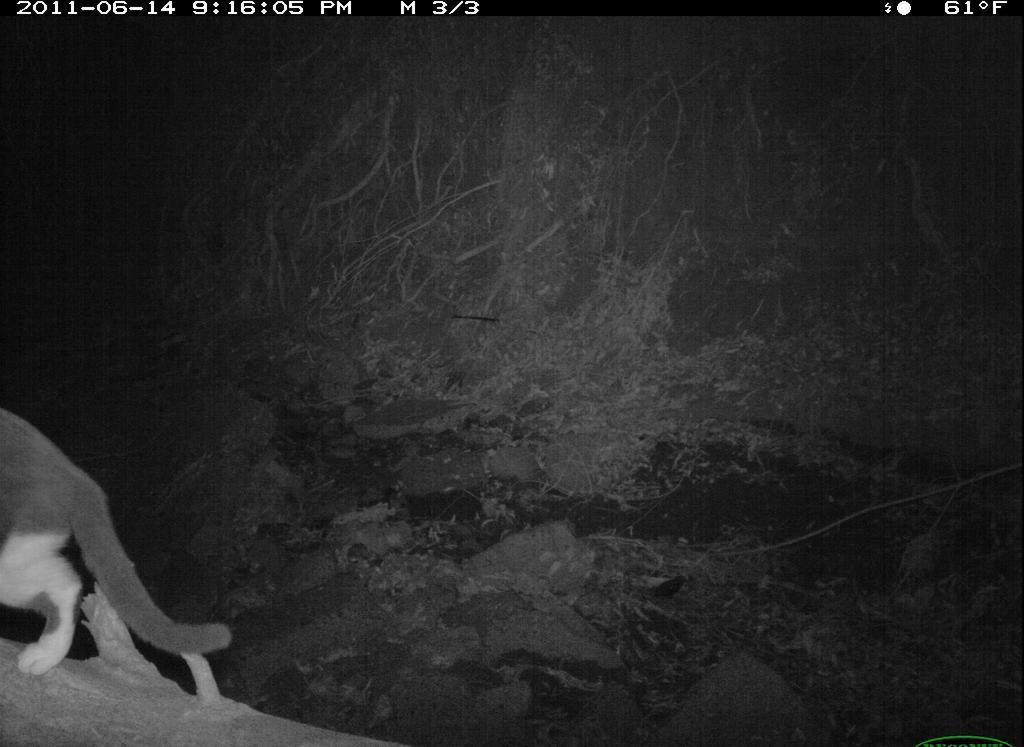cat: (4, 392, 245, 685)
